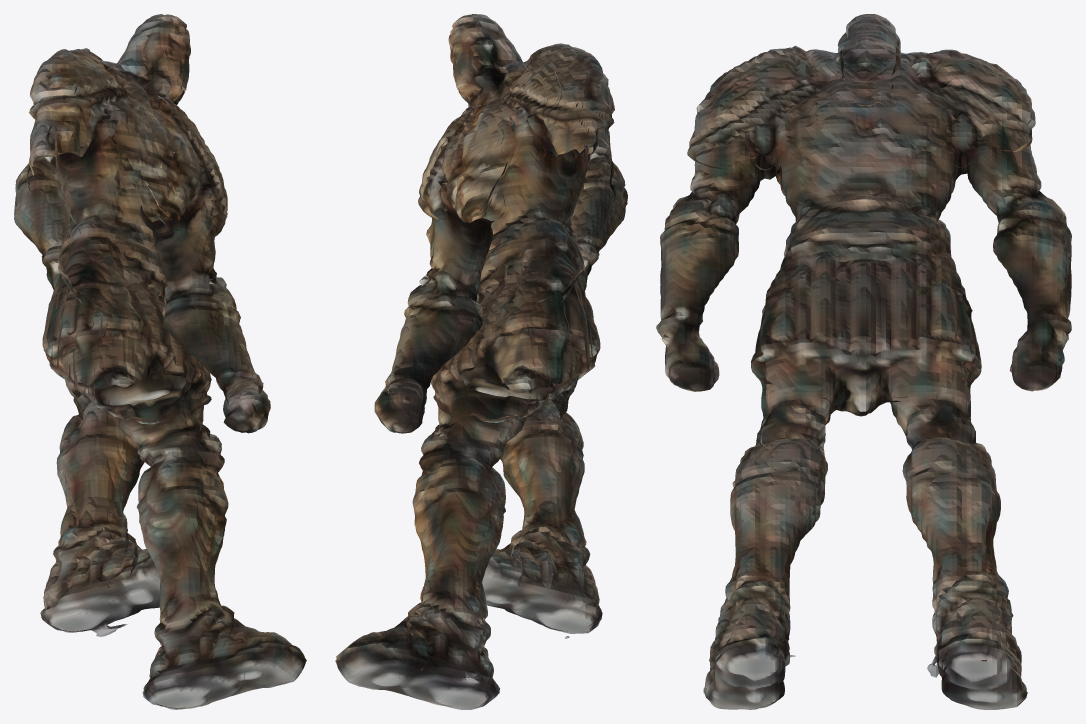
File: meshsave_00002_.glb
The picture shows the model from 3 angles, left to right: view 1: azimuth 30°, elevation 25°; view 2: azimuth 150°, elevation 25°; view 3: azimuth 270°, elevation 25°; orthographic projection. The views are drawn at different scales.
Visible parts, largest first — view 1: meshsave_00002_.obj; view 2: meshsave_00002_.obj; view 3: meshsave_00002_.obj.
Part boxes in pixels (left/top/right/bottom): meshsave_00002_.obj: left=14, top=14, right=306, bottom=709; meshsave_00002_.obj: left=335, top=14, right=627, bottom=709; meshsave_00002_.obj: left=656, top=14, right=1071, bottom=709.
Bounding box in the file's own units: 0.2782 × 1 × 0.5633.
